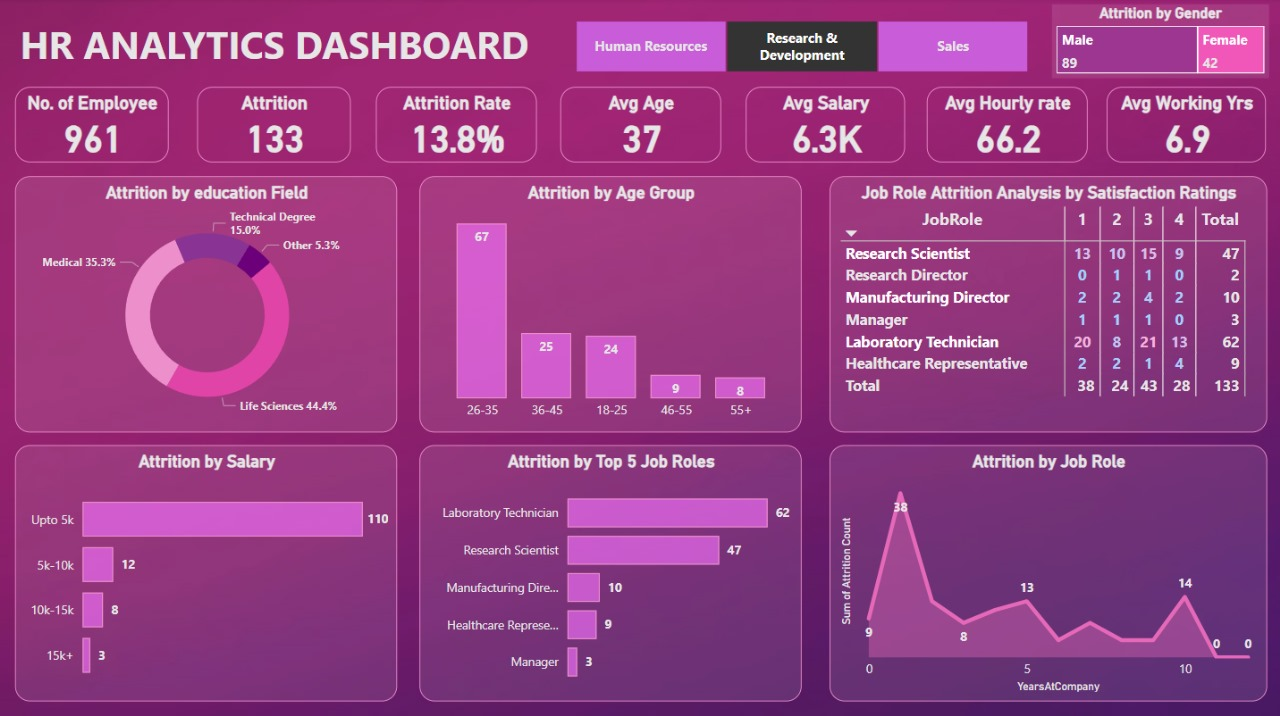

Layout of this report page (visuals, bound fields, positions):
{"tool":"powerbi","page":{"name":"Page 1","canvas":[1280,720],"ordinal":0},"visuals":[{"type":"card","title":"No. of Employee","fields":{"Values":["CountNonNull(HR_Analytics.EmpID)"]},"box":[16.2,90,152.5,75],"z":0},{"type":"card","title":"Attrition","fields":{"Values":["Sum(HR_Analytics.Attrition Count)"]},"box":[197.5,90,152.5,75],"z":2},{"type":"card","title":"Attrition Rate","fields":{"Values":["HR_Analytics.Attrition Rate"]},"box":[375,90,160,75],"z":3},{"type":"card","title":"Avg Age","fields":{"Values":["Avg(HR_Analytics.Age)"]},"box":[558.8,90,160,75],"z":4},{"type":"card","title":"Avg Salary","fields":{"Values":["Avg(HR_Analytics.MonthlyIncome)"]},"box":[743.8,90,158.8,75],"z":5},{"type":"card","title":"Avg Working Yrs","fields":{"Values":["Avg(HR_Analytics.YearsAtCompany)"]},"box":[1102.5,90,158.8,75],"z":6},{"type":"card","title":"Avg Hourly rate","fields":{"Values":["Avg(HR_Analytics.HourlyRate)"]},"box":[923.8,90,160,75],"z":7},{"type":"donutChart","title":"Attrition by education Field","fields":{"Category":["HR_Analytics.EducationField"],"Y":["Sum(HR_Analytics.Attrition Count)"]},"box":[16.2,178.8,380,255],"z":8},{"type":"columnChart","title":"Attrition by Age Group","fields":{"Category":["HR_Analytics.AgeGroup"],"Y":["Sum(HR_Analytics.Attrition Count)"]},"box":[418.8,178.8,380,255],"z":9},{"type":"pivotTable","title":"Job Role Attrition Analysis by Satisfaction Ratings","fields":{"Rows":["HR_Analytics.JobRole"],"Values":["Sum(HR_Analytics.Attrition Count)"],"Columns":["HR_Analytics.JobSatisfaction"]},"box":[826.2,178.8,435,255],"z":10},{"type":"barChart","title":"Attrition by Salary","fields":{"Category":["HR_Analytics.SalarySlab"],"Y":["Sum(HR_Analytics.Attrition Count)"]},"box":[16.2,446.2,380,255],"z":11},{"type":"clusteredBarChart","title":"Attrition by Top 5 Job Roles","fields":{"Category":["HR_Analytics.JobRole"],"Y":["Sum(HR_Analytics.Attrition Count)"]},"box":[418.8,446.2,380,255],"z":12},{"type":"areaChart","title":"Attrition by Job Role","fields":{"Category":["HR_Analytics.YearsAtCompany"],"Y":["Sum(HR_Analytics.Attrition Count)"]},"box":[826.2,446.2,435,255],"z":13},{"type":"treemap","title":"Attrition by Gender","fields":{"Group":["HR_Analytics.Gender"],"Values":["Sum(HR_Analytics.Attrition Count)"]},"box":[1047.5,7.5,216.2,73.8],"z":14},{"type":"slicer","fields":{"Values":["HR_Analytics.Department"]},"box":[548.8,17.5,498.8,63.8],"z":15},{"type":"textbox","box":[16.2,17.5,531.2,63.8],"z":17}]}

Visuals, with their boxes in screenshot pixels (x1, y1, x2, y2), scaled from the page's 1280x720 canvas onto the 1280x716 screenshot:
"No. of Employee" card: box=[16, 90, 169, 164]
"Attrition" card: box=[198, 90, 350, 164]
"Attrition Rate" card: box=[375, 90, 535, 164]
"Avg Age" card: box=[559, 90, 719, 164]
"Avg Salary" card: box=[744, 90, 903, 164]
"Avg Working Yrs" card: box=[1102, 90, 1261, 164]
"Avg Hourly rate" card: box=[924, 90, 1084, 164]
"Attrition by education Field" donutChart: box=[16, 178, 396, 431]
"Attrition by Age Group" columnChart: box=[419, 178, 799, 431]
"Job Role Attrition Analysis by Satisfaction Ratings" pivotTable: box=[826, 178, 1261, 431]
"Attrition by Salary" barChart: box=[16, 444, 396, 697]
"Attrition by Top 5 Job Roles" clusteredBarChart: box=[419, 444, 799, 697]
"Attrition by Job Role" areaChart: box=[826, 444, 1261, 697]
"Attrition by Gender" treemap: box=[1048, 7, 1264, 81]
slicer - HR_Analytics.Department: box=[549, 17, 1048, 81]
textbox: box=[16, 17, 547, 81]
